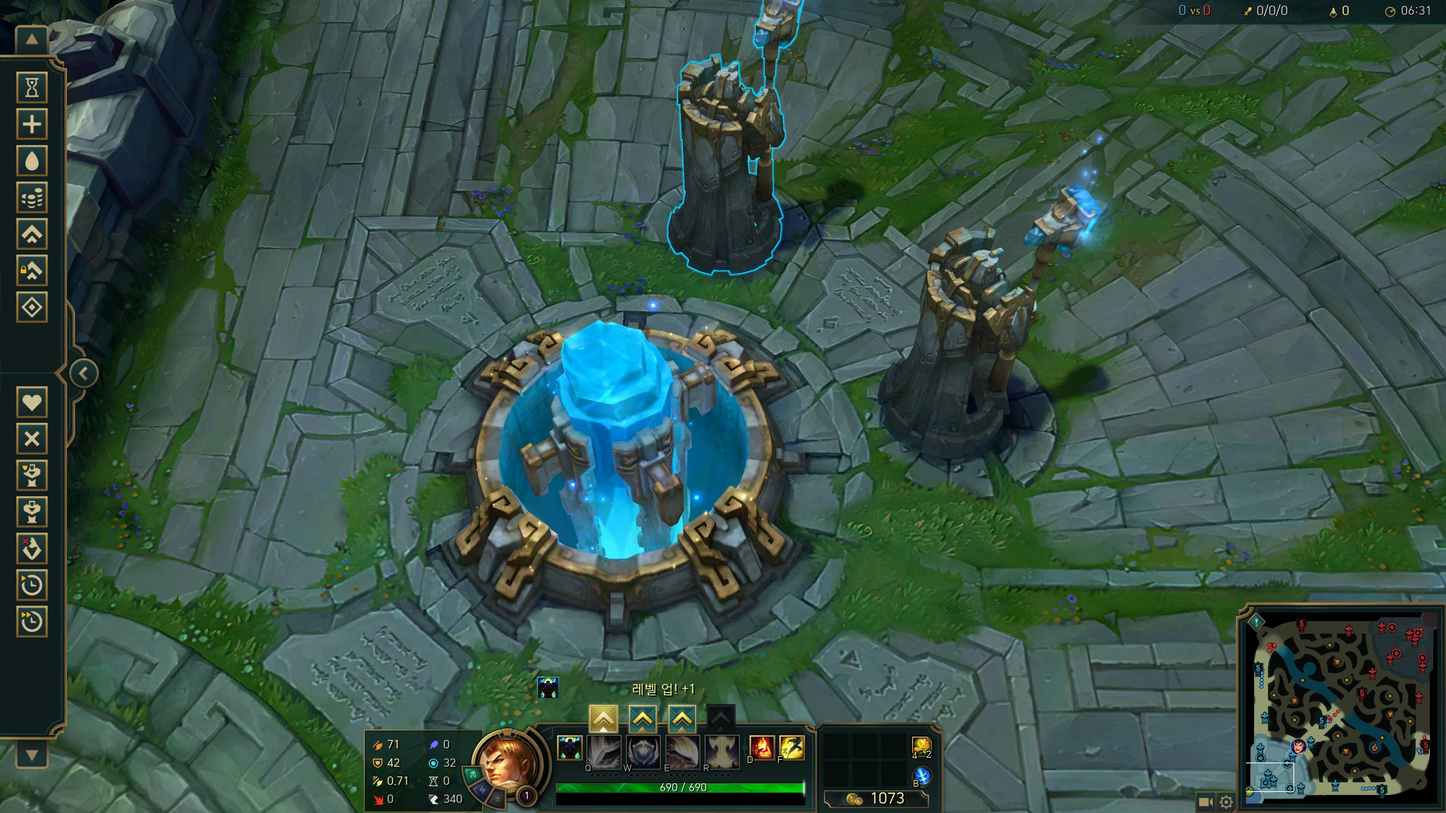ally-nexus: (389, 293, 871, 671)
ally-tower: (882, 186, 1101, 493), (644, 0, 811, 276)
